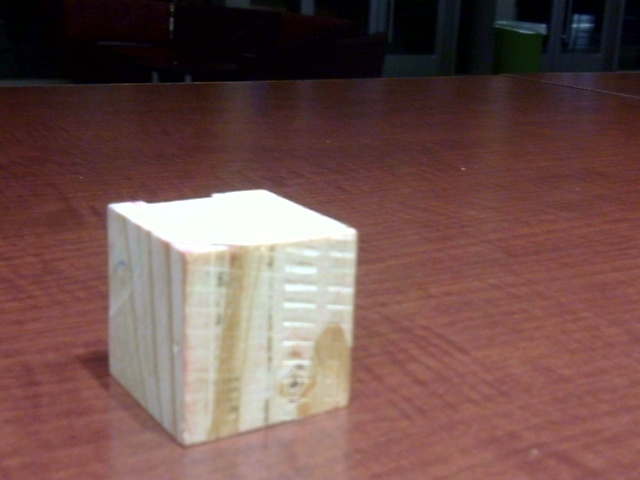NormalBlock: (108, 204, 357, 448)
